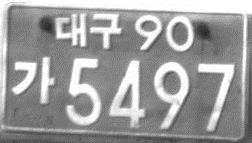0: (165, 13, 195, 52)
4: (108, 57, 147, 130)
5: (64, 56, 102, 127)
7: (195, 61, 237, 134)
9: (151, 59, 191, 130), (133, 13, 163, 51)
가: (11, 53, 56, 107)
대구_O: (53, 10, 125, 51)
